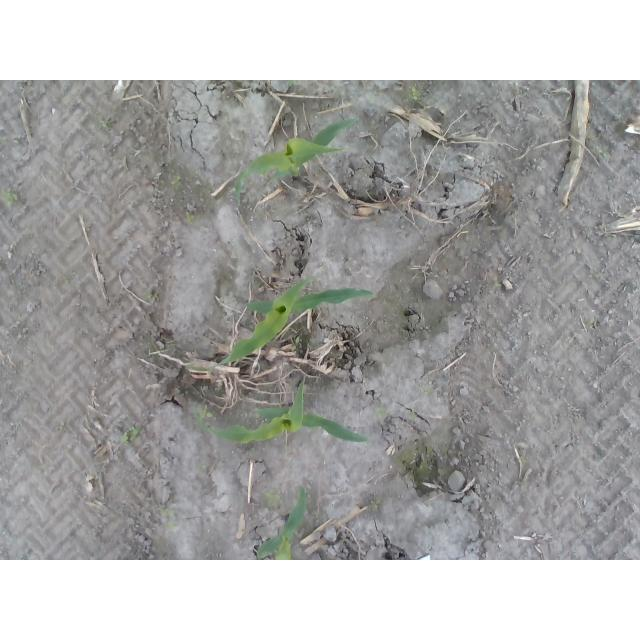Maize: (186, 276, 374, 373), (194, 375, 370, 443), (234, 119, 360, 204), (257, 485, 308, 560)
Weeds: (160, 510, 176, 533), (194, 403, 214, 421), (120, 428, 140, 445), (266, 489, 282, 507), (1, 191, 18, 207), (377, 407, 391, 421), (411, 87, 424, 101), (597, 146, 611, 158), (169, 177, 183, 188), (406, 410, 419, 420), (98, 121, 109, 132), (291, 337, 299, 351), (145, 291, 156, 301), (494, 276, 503, 288), (420, 387, 432, 396), (370, 501, 382, 510), (187, 211, 194, 225), (286, 80, 296, 89), (590, 317, 598, 326), (520, 457, 527, 467), (58, 422, 65, 431), (588, 135, 597, 141)
